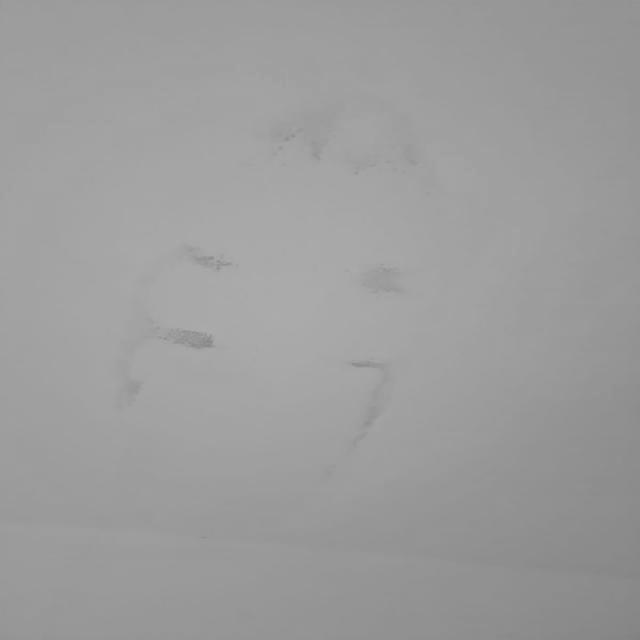stain marks: (84, 309, 240, 416), (267, 95, 442, 185), (328, 344, 409, 468), (330, 252, 444, 310), (142, 225, 240, 292)
